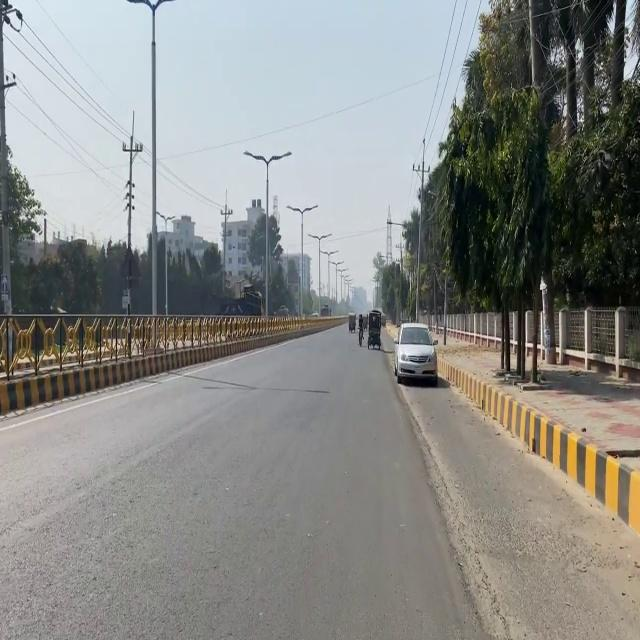Broken-road: (388, 320, 458, 402)
Construction-barrier: (433, 348, 639, 535)
Fallen-tree: (367, 327, 381, 349), (357, 326, 364, 346)
Pole: (6, 300, 202, 418)
Pothole: (381, 321, 639, 638)
Traffic-cone: (220, 285, 263, 318)
